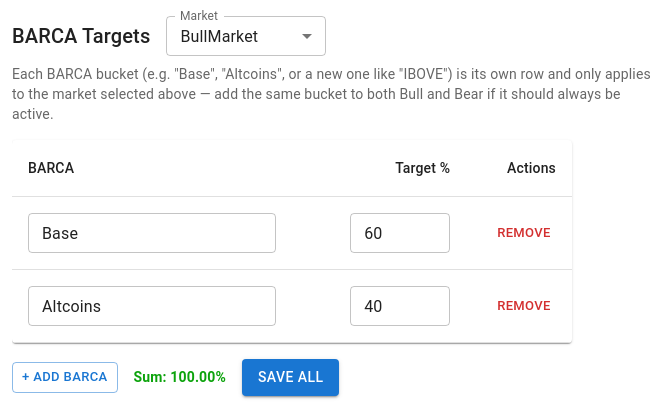
BarcaTargetsTab › disables Save when the sum is not 100%
Replace the text in the 1st number field with "50" at coordinates (400, 233), box [350,213,450,253]
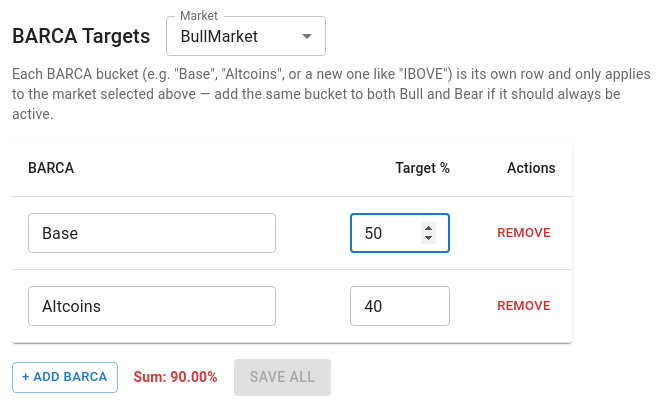
Expected: the button "Save All" is disabled, [234,359,331,396]
Expected: the text "Sum: 90.00%" is shown, [134,367,218,387]
